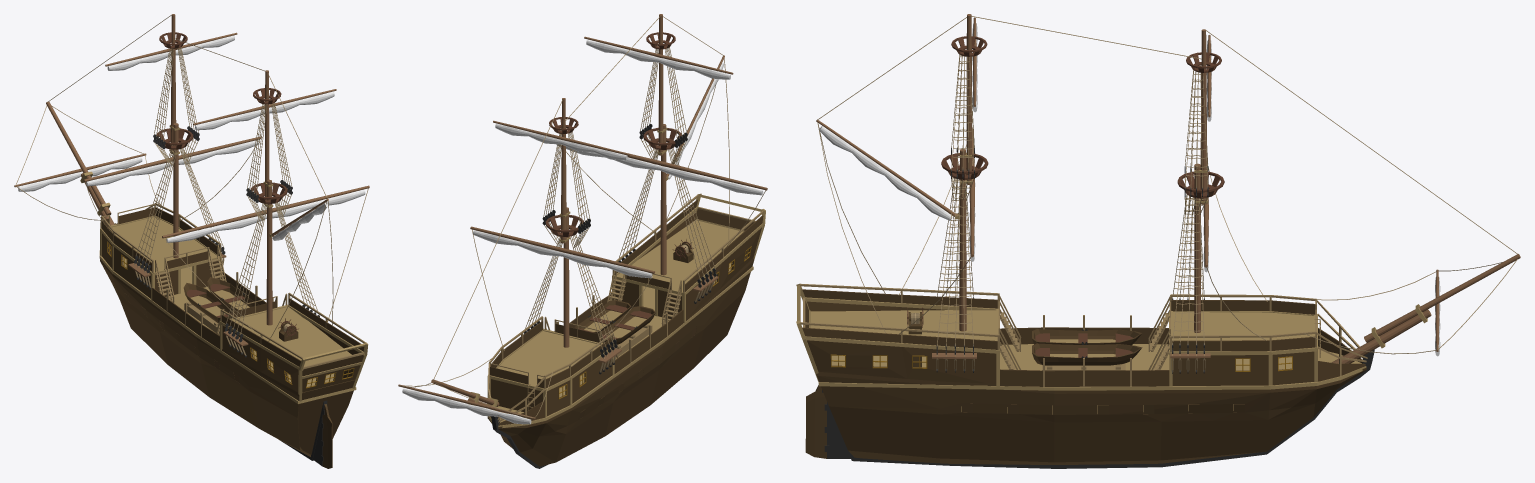
Rendered from New Ship Test 1.fbx.
The picture shows the model from 3 angles, left to right: view 1: azimuth 30°, elevation 25°; view 2: azimuth 150°, elevation 25°; view 3: azimuth 270°, elevation 25°; orthographic projection. The views are drawn at different scales.
Visible parts, largest first — view 1: Cube.276, Cube.264, Cube.256, Cube.275, Cube.267, Cube.272, Cube.202, Cube.197, Cylinder.057, Cube.239, Cube.243, Cylinder.060 (+29 smaller); view 2: Cube.276, Cube.264, Cube.256, Cube.267, Cube.272, Cube.202, Cube.262, Cube.239, Cube.197, Cylinder.060, Cube.243, Cylinder.057 (+24 smaller); view 3: Cube.276, Cube.267, Cube.272, Cube.239, Cube.262, Cube.264, Cube.256, Cube.243, Cube.234, Cube.277, Cube.202, Cube.214 (+17 smaller).
Boxes of the visible parts, x1=… form: Cube.276: x1=100, y1=259, x2=353, y2=456; Cube.264: x1=232, y1=307, x2=351, y2=366; Cube.256: x1=109, y1=217, x2=216, y2=271; Cube.275: x1=298, y1=380, x2=354, y2=454; Cube.267: x1=222, y1=322, x2=358, y2=392; Cube.272: x1=99, y1=250, x2=356, y2=403; Cube.202: x1=225, y1=202, x2=319, y2=334; Cube.197: x1=135, y1=145, x2=223, y2=265; Cylinder.057: x1=166, y1=190, x2=365, y2=242; Cube.239: x1=152, y1=273, x2=266, y2=347; Cube.243: x1=221, y1=298, x2=364, y2=366; Cylinder.060: x1=86, y1=140, x2=258, y2=186; Cube.276: x1=487, y1=258, x2=754, y2=466; Cube.264: x1=617, y1=220, x2=743, y2=291; Cube.256: x1=497, y1=331, x2=600, y2=385; Cube.267: x1=639, y1=213, x2=761, y2=319; Cube.272: x1=488, y1=263, x2=753, y2=428; Cube.202: x1=619, y1=145, x2=715, y2=280; Cube.262: x1=547, y1=359, x2=612, y2=416; Cube.239: x1=569, y1=294, x2=683, y2=373; Cube.197: x1=525, y1=228, x2=615, y2=349; Cylinder.060: x1=473, y1=230, x2=652, y2=278; Cube.243: x1=614, y1=199, x2=763, y2=291; Cylinder.057: x1=556, y1=144, x2=763, y2=195; Cube.276: x1=816, y1=367, x2=1366, y2=464; Cube.267: x1=807, y1=301, x2=996, y2=383; Cube.272: x1=818, y1=344, x2=1366, y2=390; Cube.239: x1=1000, y1=327, x2=1169, y2=386; Cube.262: x1=1172, y1=351, x2=1314, y2=385; Cube.264: x1=810, y1=310, x2=996, y2=340; Cube.256: x1=1173, y1=312, x2=1314, y2=340; Cube.243: x1=802, y1=289, x2=997, y2=349; Cube.234: x1=1171, y1=300, x2=1315, y2=351; Cube.277: x1=846, y1=349, x2=1374, y2=468; Cube.202: x1=937, y1=178, x2=973, y2=346; Cube.214: x1=1032, y1=343, x2=1142, y2=365.
Bounding box in the file's own units: 1582 × 2646 × 3836.
